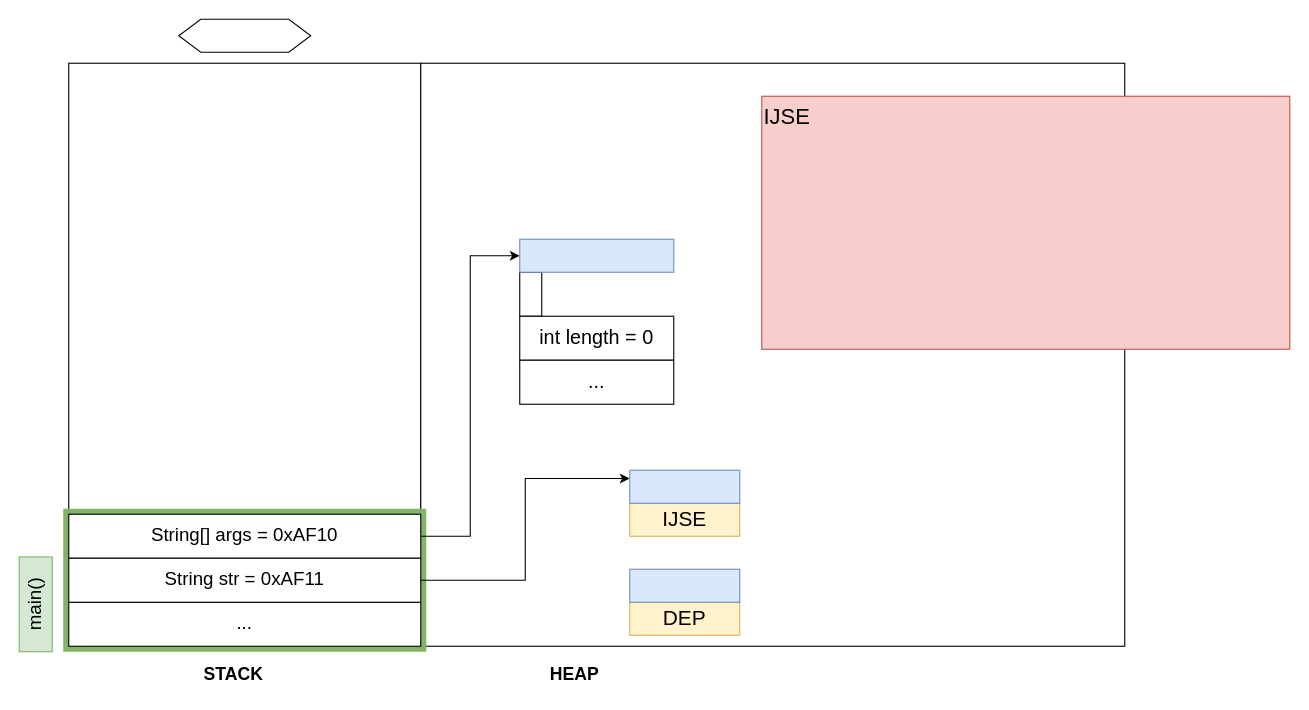
Some shapes in this 1309 by 710 pixel diagram are drawn without their labels. Each missing label, with the centre of its shape:
"0xAF10" belongs at (x=596, y=255).
"0xAF11" belongs at (x=684, y=486).
"0xAF12" belongs at (x=684, y=585).
"main thread" belongs at (x=244, y=35).
